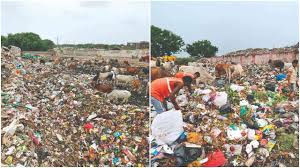garbage: (2, 54, 93, 168), (198, 84, 288, 168), (153, 117, 300, 166), (83, 107, 148, 168)
